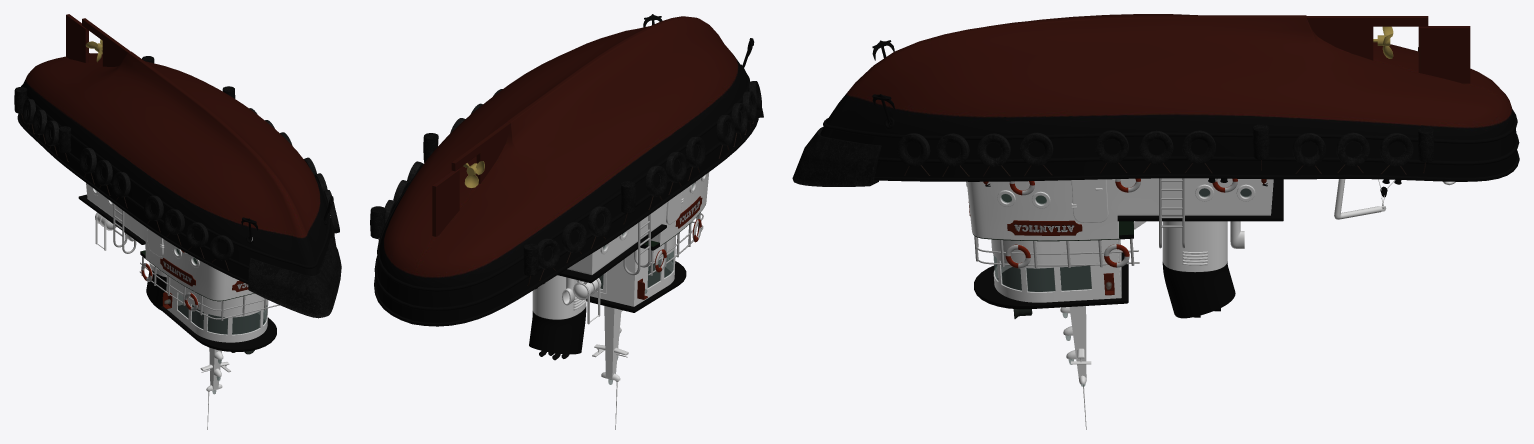
Rendered from boat_v2_L2..glb.
The picture shows the model from 3 angles, left to right: view 1: azimuth 30°, elevation 25°; view 2: azimuth 150°, elevation 25°; view 3: azimuth 270°, elevation 25°; orthographic projection. The views are drawn at different scales.
Parts seen in each view (by area): view 1: Node20, Node18, Node24, Node16, Node19, Node11, Node17, Node15, Node25, Node14, Node2, Node23; view 2: Node20, Node18, Node16, Node19, Node11, Node14, Node25, Node2, Node15, Node17, Node7, Node13; view 3: Node20, Node16, Node18, Node19, Node11, Node24, Node14, Node17, Node15, Node23, Node25, Node2 (+1 smaller).
Part boxes in pixels (left/top/right/bottom): Node20: left=17, top=14, right=336, bottom=284; Node18: left=22, top=99, right=339, bottom=270; Node24: left=248, top=238, right=341, bottom=318; Node16: left=86, top=183, right=253, bottom=300; Node19: left=78, top=194, right=276, bottom=354; Node11: left=166, top=275, right=268, bottom=342; Node17: left=177, top=293, right=267, bottom=334; Node15: left=113, top=203, right=279, bottom=372; Node25: left=14, top=56, right=235, bottom=161; Node14: left=146, top=270, right=166, bottom=310; Node2: left=207, top=347, right=230, bottom=429; Node23: left=141, top=250, right=198, bottom=311; Node20: left=374, top=16, right=758, bottom=326; Node18: left=384, top=81, right=761, bottom=280; Node16: left=532, top=172, right=709, bottom=319; Node19: left=557, top=196, right=705, bottom=312; Node11: left=590, top=235, right=676, bottom=306; Node14: left=529, top=306, right=586, bottom=354; Node25: left=370, top=133, right=635, bottom=285; Node2: left=592, top=306, right=621, bottom=429; Node15: left=616, top=212, right=703, bottom=357; Node17: left=599, top=250, right=673, bottom=288; Node7: left=573, top=278, right=601, bottom=322; Node13: left=463, top=161, right=484, bottom=188; Node20: left=820, top=14, right=1519, bottom=181; Node16: left=966, top=178, right=1273, bottom=272; Node18: left=897, top=130, right=1413, bottom=176; Node19: left=968, top=179, right=1283, bottom=318; Node11: left=991, top=221, right=1146, bottom=302; Node24: left=792, top=126, right=881, bottom=186; Node14: left=1162, top=261, right=1235, bottom=318; Node17: left=993, top=255, right=1091, bottom=291; Node15: left=974, top=178, right=1184, bottom=268; Node23: left=1005, top=178, right=1237, bottom=268; Node25: left=1252, top=47, right=1434, bottom=173; Node2: left=1069, top=306, right=1091, bottom=429.
Size of the model in its own units: 16.13 by 27.83 by 43.97.
8 materials, 3 textured.
